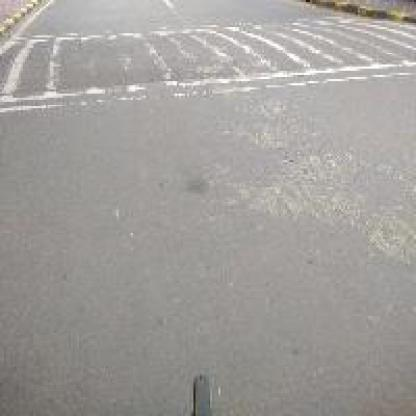Speed Bump: (0, 14, 412, 115)
